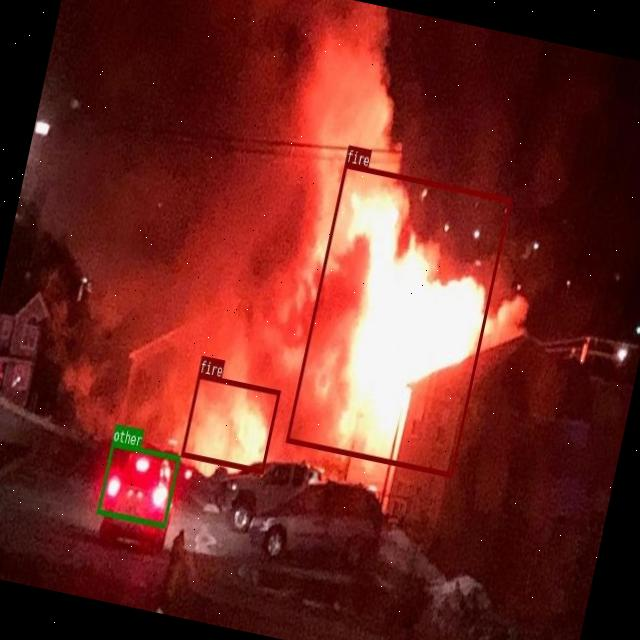fire: (285, 162, 511, 476), (180, 372, 280, 474)
